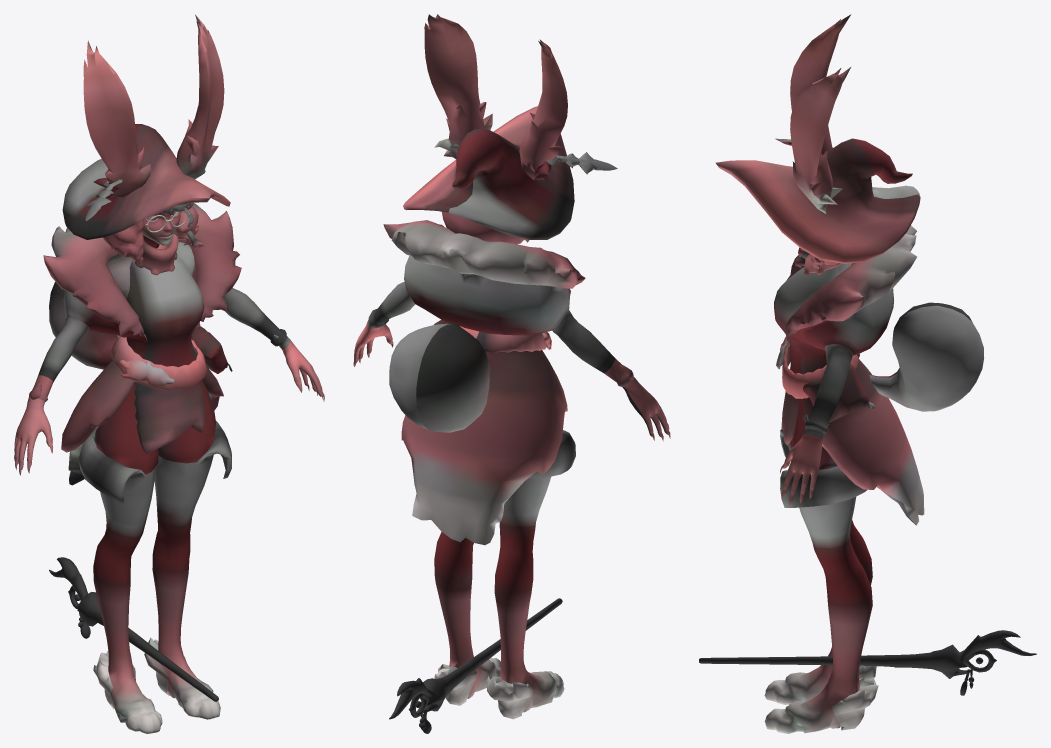
File: aurora.obj
The picture shows the model from 3 angles, left to right: view 1: azimuth 30°, elevation 25°; view 2: azimuth 150°, elevation 25°; view 3: azimuth 270°, elevation 25°; orthographic projection. The views are drawn at different scales.
Visible parts, largest first — view 1: obj1, obj2, obj3; view 2: obj1, obj2, obj3; view 3: obj1, obj2, obj3.
Boxes of the visible parts, x1,y1,x2,y2 form: obj1: (14, 14, 324, 733); obj2: (62, 124, 230, 239); obj3: (49, 557, 218, 701); obj1: (353, 14, 670, 719); obj2: (403, 106, 574, 239); obj3: (389, 598, 562, 733); obj1: (764, 14, 983, 733); obj2: (715, 138, 920, 263); obj3: (699, 630, 1036, 695).
Bounding box in the file's own units: 1.05 × 2.21 × 1.
